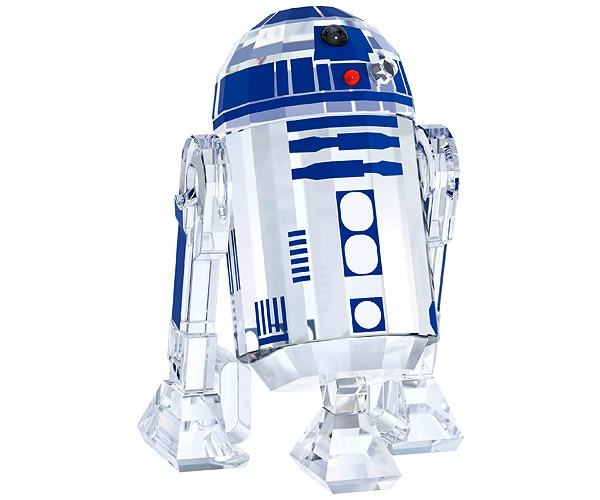r2d2: (139, 7, 464, 495)
